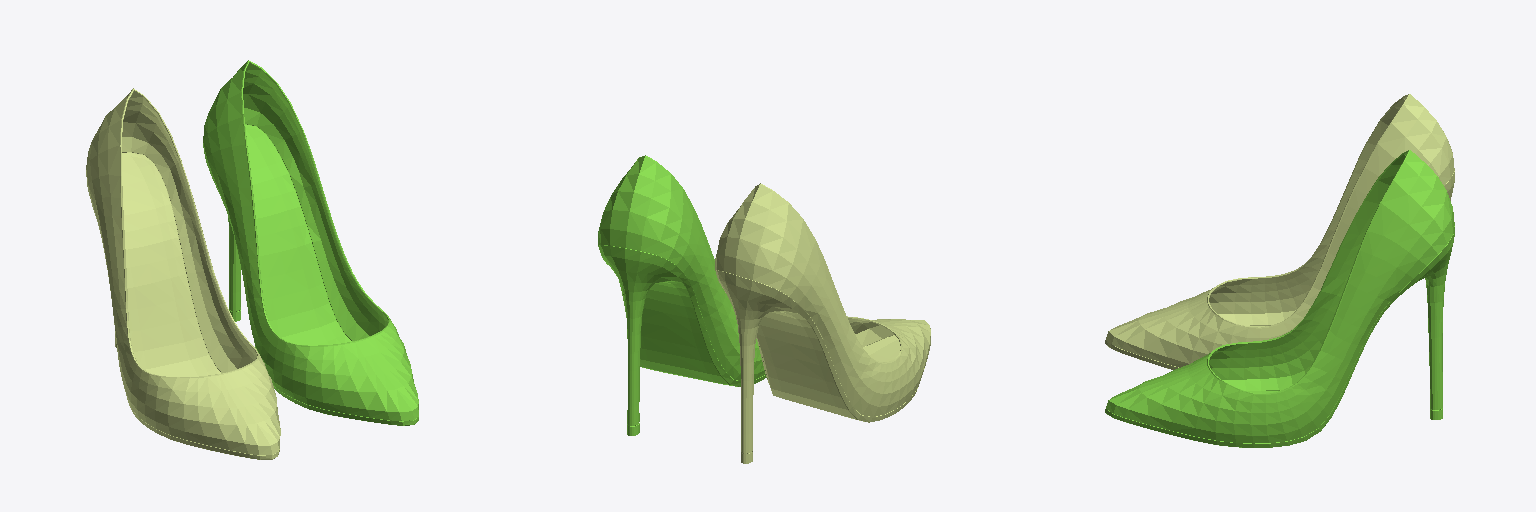
The model's file is women-shoes.obj.
3 views of the same model, side by side, from view 1: azimuth 30°, elevation 25°; view 2: azimuth 150°, elevation 25°; view 3: azimuth 270°, elevation 25° (orthographic).
Parts seen in each view (by area): view 1: Shoe_left, Shoe_right; view 2: Shoe_right, Shoe_left; view 3: Shoe_left, Shoe_right.
Part boxes in pixels (bbox=[...]): Shoe_left: bbox=[203, 60, 418, 425]; Shoe_right: bbox=[86, 88, 280, 459]; Shoe_right: bbox=[715, 183, 930, 463]; Shoe_left: bbox=[598, 155, 766, 435]; Shoe_left: bbox=[1105, 150, 1454, 447]; Shoe_right: bbox=[1105, 94, 1454, 369].
Bounding box in the file's own units: 177 × 181 × 213.